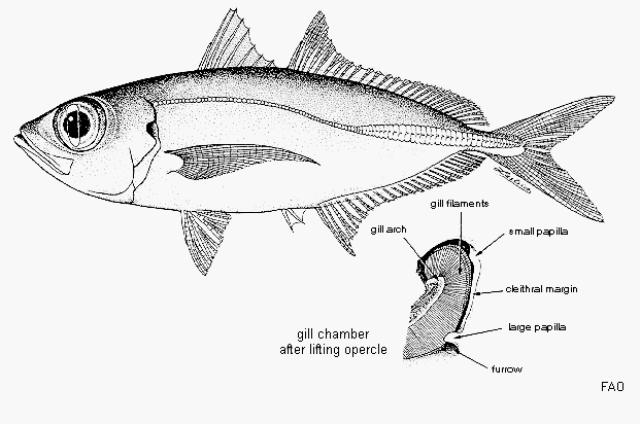Mulut: (6, 94, 58, 180)
Sirip Anal: (320, 146, 488, 262)
Sirip Dada: (172, 140, 320, 188)
Sirip Ekor: (498, 82, 626, 228)
Sirip Perut: (182, 206, 242, 284)
Sirip Punggung: (192, 4, 492, 126)
